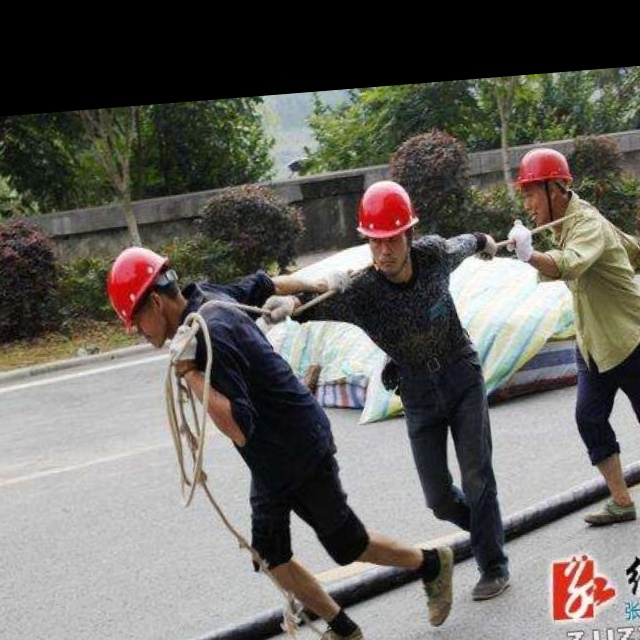Con_Casco: (108, 244, 181, 348), (356, 179, 422, 276)
